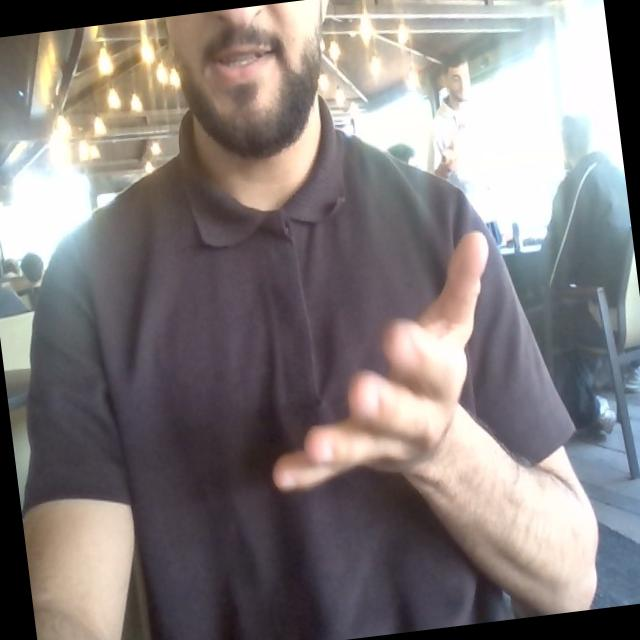Hand: (273, 232, 488, 489)
